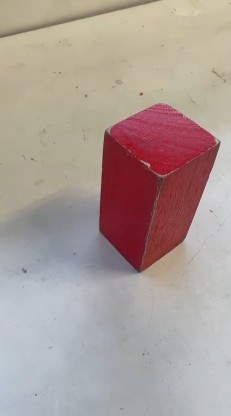red: (106, 107, 196, 254)
